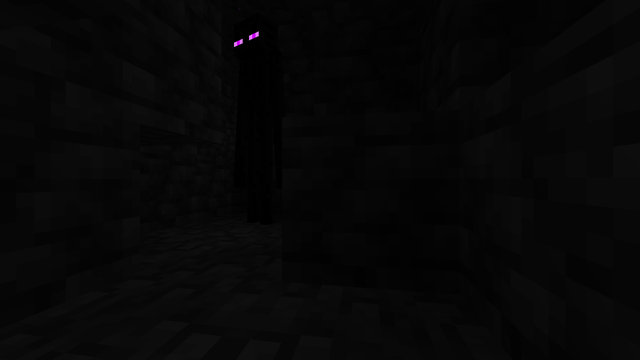endermens: (229, 5, 282, 226)
